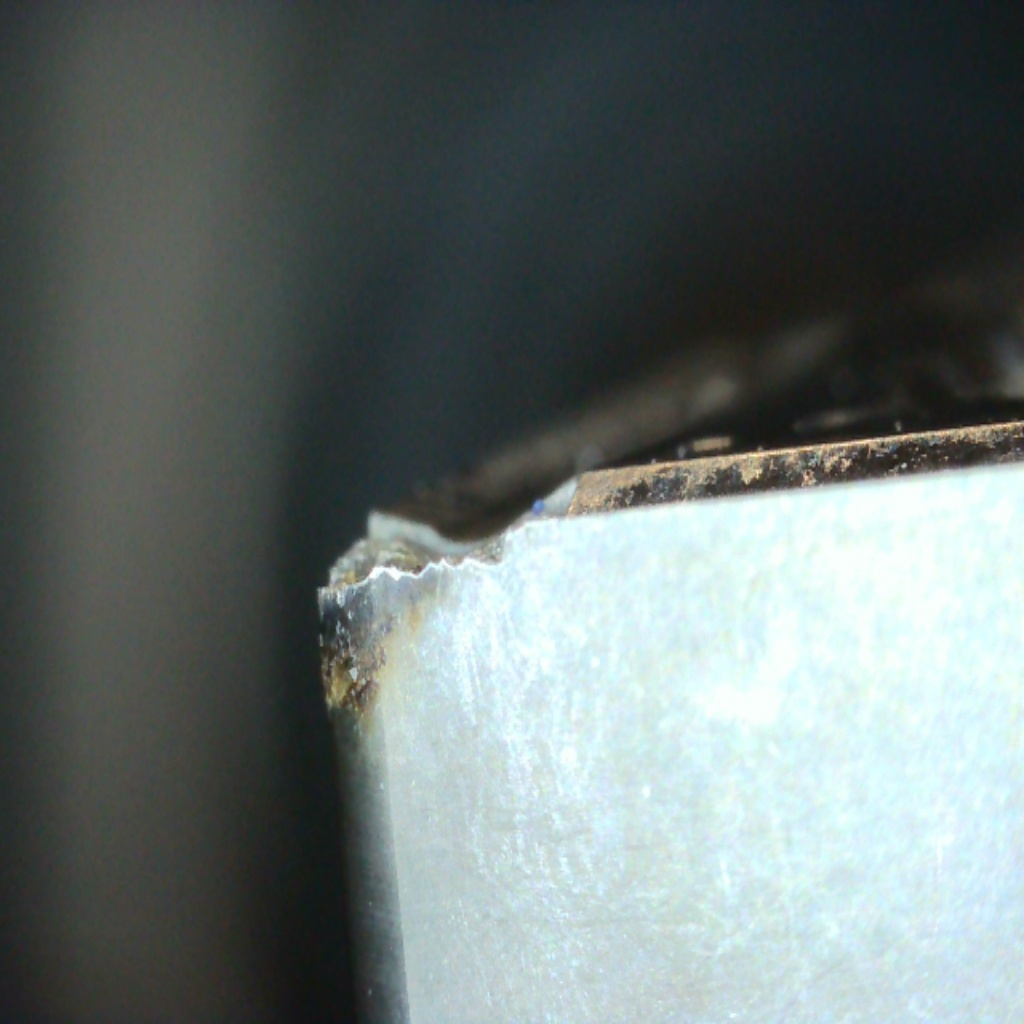flank_wear: (327, 553, 426, 739), (317, 553, 515, 601)
